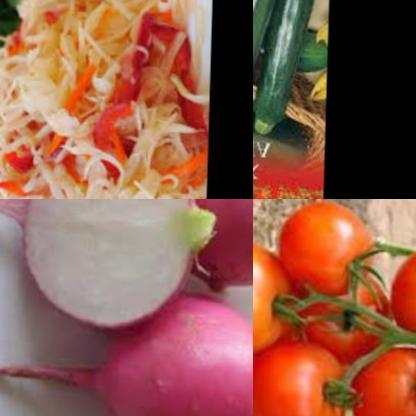cabbage: (0, 0, 104, 133), (51, 164, 207, 199), (120, 97, 183, 181), (88, 0, 184, 30)
carrot: (92, 27, 147, 167)
hot pepper: (167, 41, 209, 130), (2, 143, 32, 169)
rediska: (0, 270, 253, 416), (13, 199, 212, 334), (172, 199, 253, 295)
tomato: (272, 199, 381, 297), (253, 325, 357, 416), (310, 260, 400, 353), (348, 331, 416, 416), (253, 230, 297, 353)
vegetable marrow: (253, 0, 320, 144), (253, 71, 324, 159), (253, 0, 289, 116)
